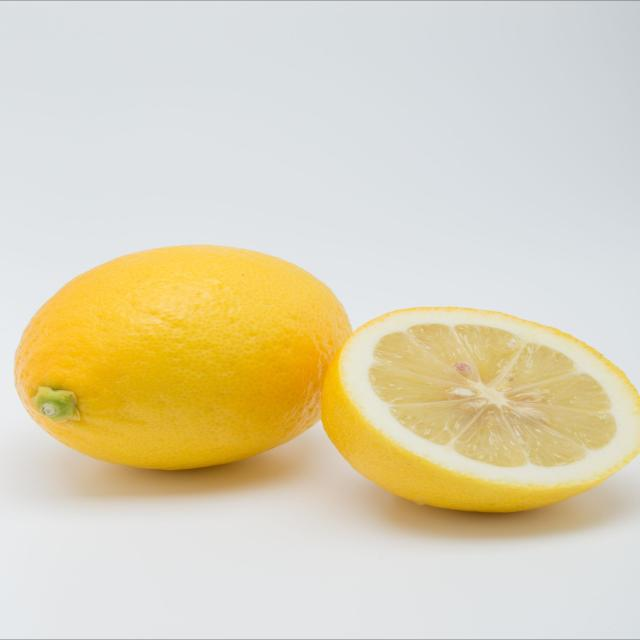lemon: (0, 241, 356, 474), (315, 304, 640, 514)
